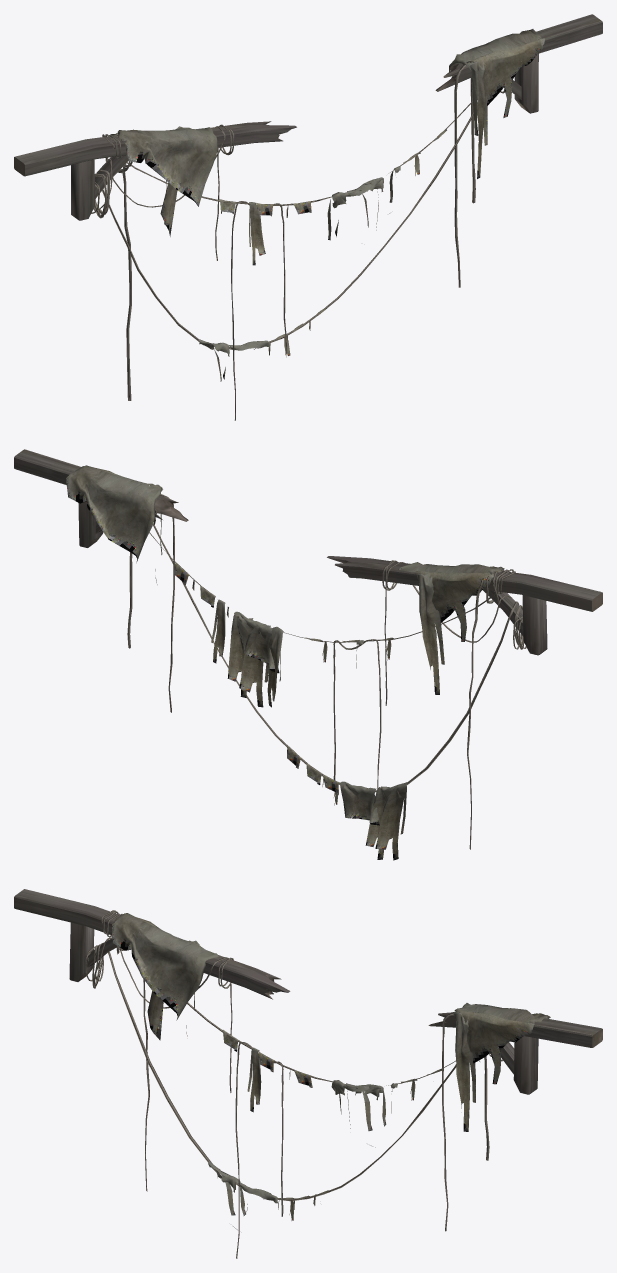
The model's file is AEG023_346out-transformed.glb.
The picture shows the model from 3 angles, top to bottom: view 1: azimuth 30°, elevation 25°; view 2: azimuth 150°, elevation 25°; view 3: azimuth 330°, elevation 25°; orthographic projection.
Visible parts, largest first — view 1: default; view 2: default; view 3: default.
Boxes of the visible parts, x1=… form: default: x1=14, y1=14, x2=602, y2=420; default: x1=14, y1=449, x2=602, y2=860; default: x1=14, y1=889, x2=602, y2=1258.
Size of the model in its own units: 13.97 by 7.31 by 1.05.
2 materials, 2 textured.
